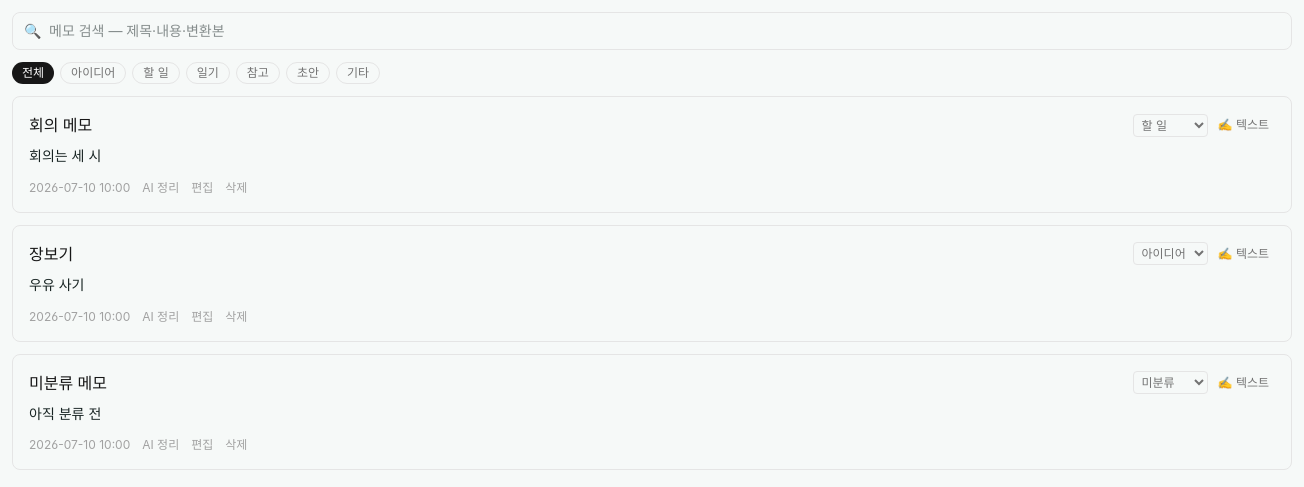
Test: 카테고리 필터 (서버 WHERE 조회) › 검색어를 지워도 카테고리 필터는 유지되어 재조회한다
Type "회의" into the search field labelled "메모 검색" at (652,31), box [12,12,1292,50]
Wait 300 ms
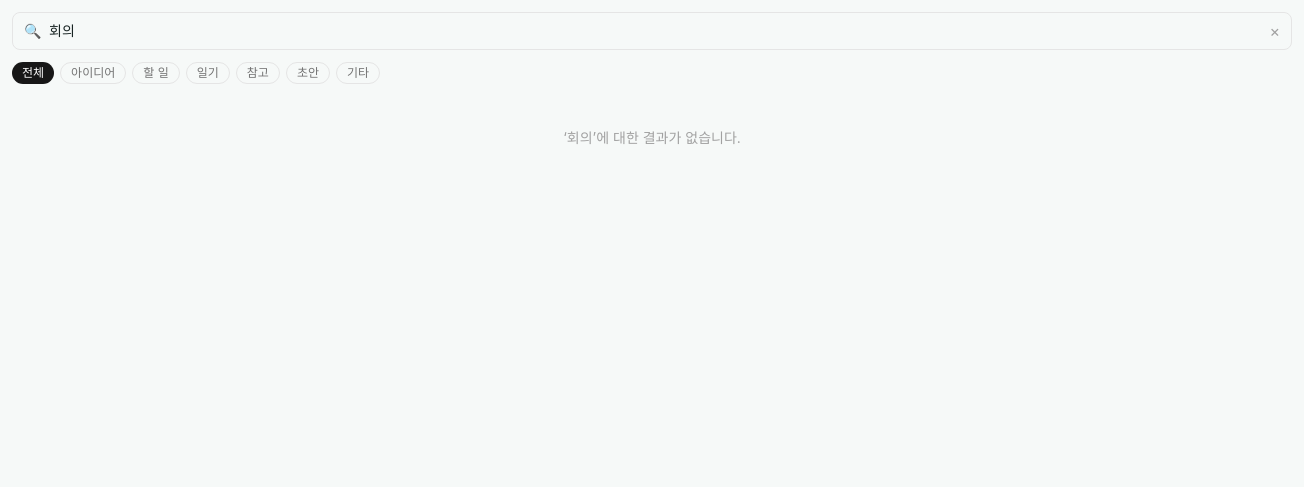
Click the button "일기" at (208,73), box [186,62,230,84]
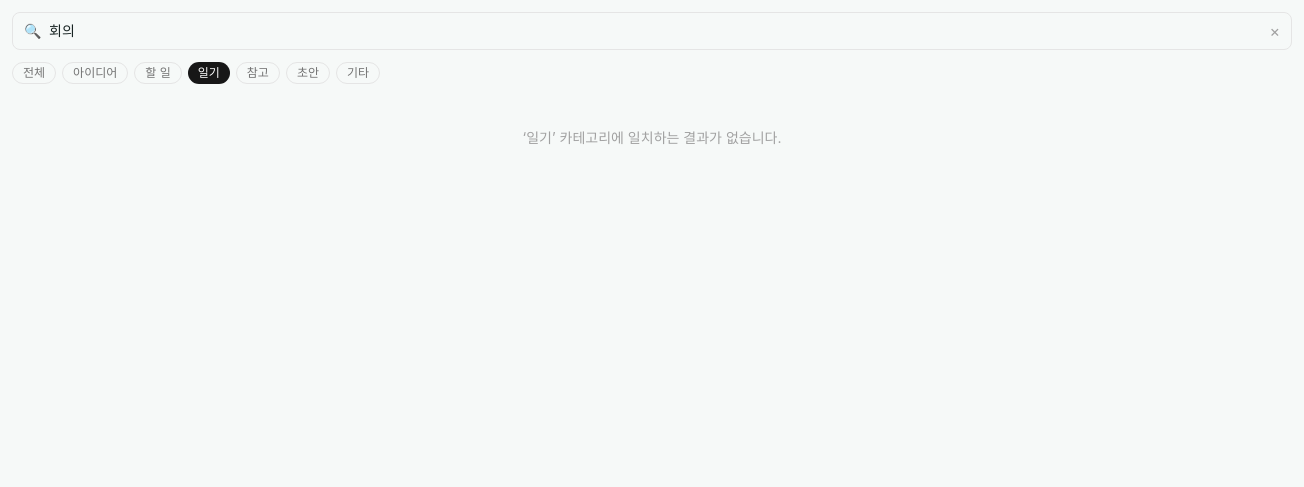
Click the button named "검색어 지우기" at (1275,31), box [1269,23,1280,39]
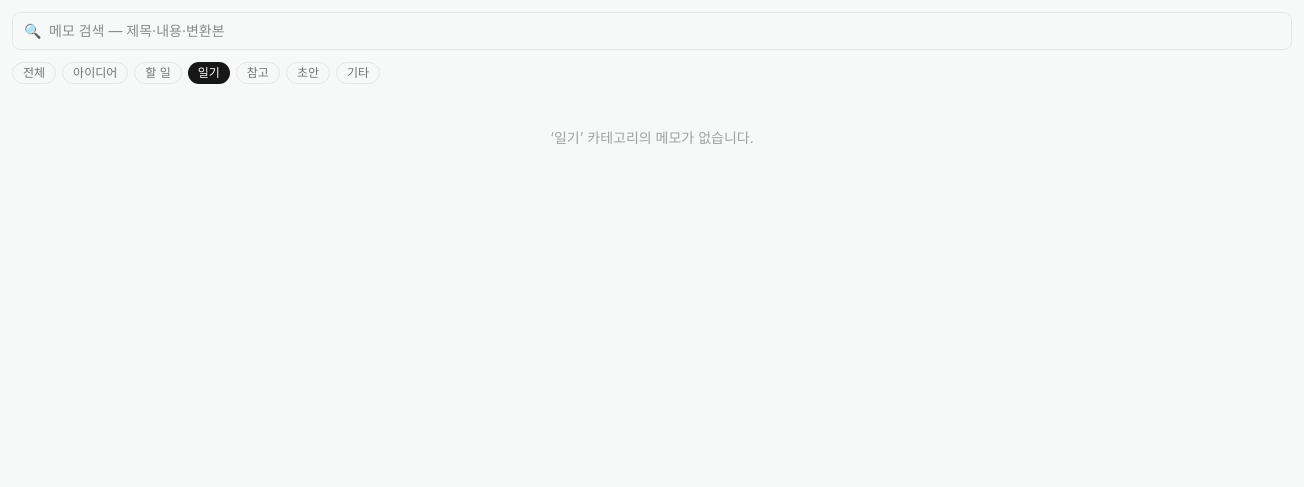
Result: the text "‘일기’ 카테고리의 메모가 없습니다." is shown at [550,129,754,146]
